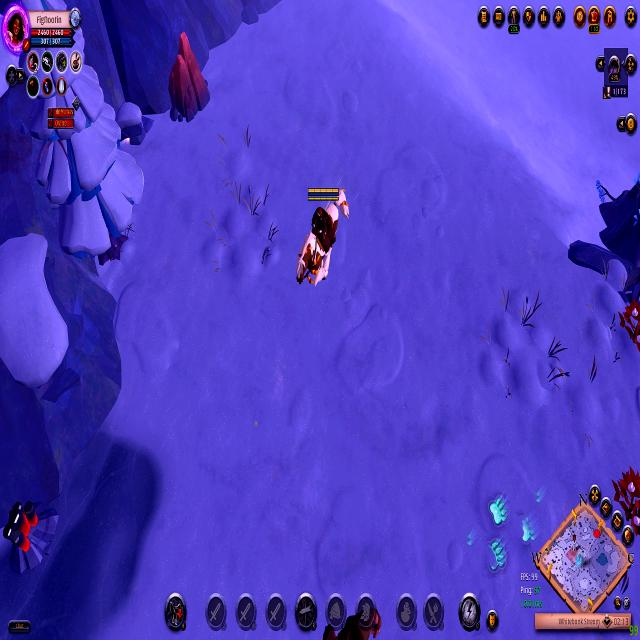hide: (613, 457, 640, 540), (615, 284, 640, 360)
ore: (316, 596, 384, 640)
player: (0, 494, 56, 566)
red: (290, 182, 355, 296)
tree: (160, 23, 217, 133)
